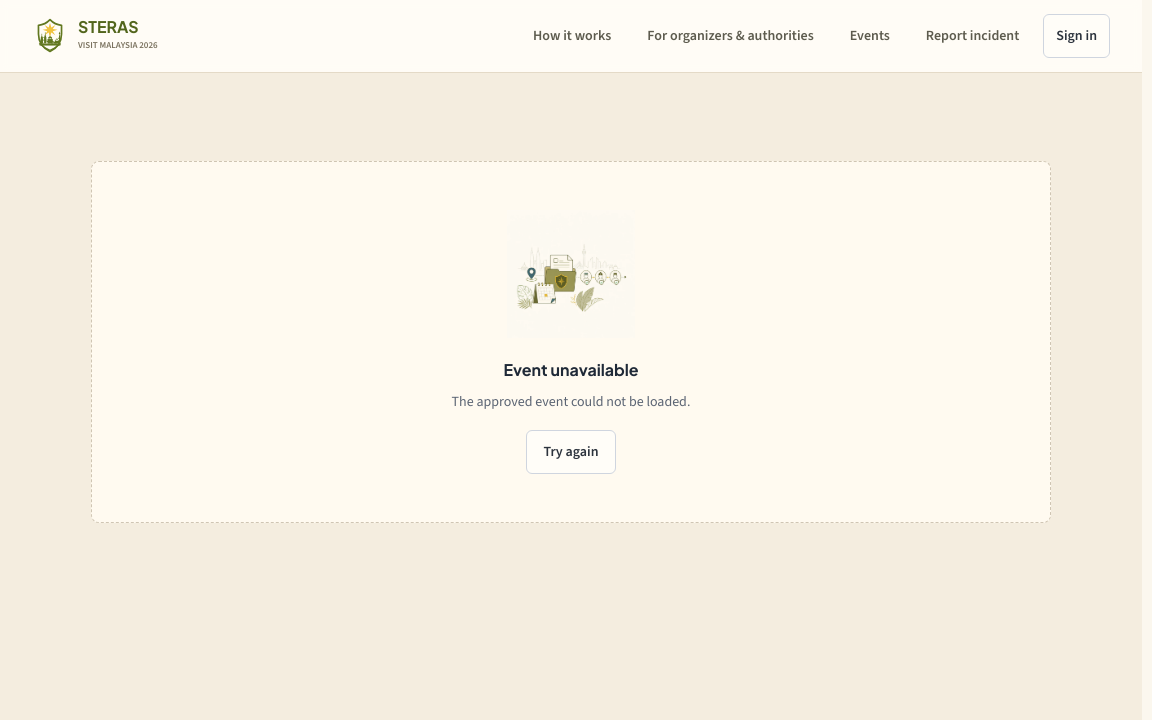
Test: PublicEventDetail › shows a retryable error when Firestore fails
The image size is (1152, 720).
Expected: the heading "Event unavailable" is shown, [503,359,639,380]
Click the button "Try again": {"x": 571, "y": 452} [526,430,616,474]
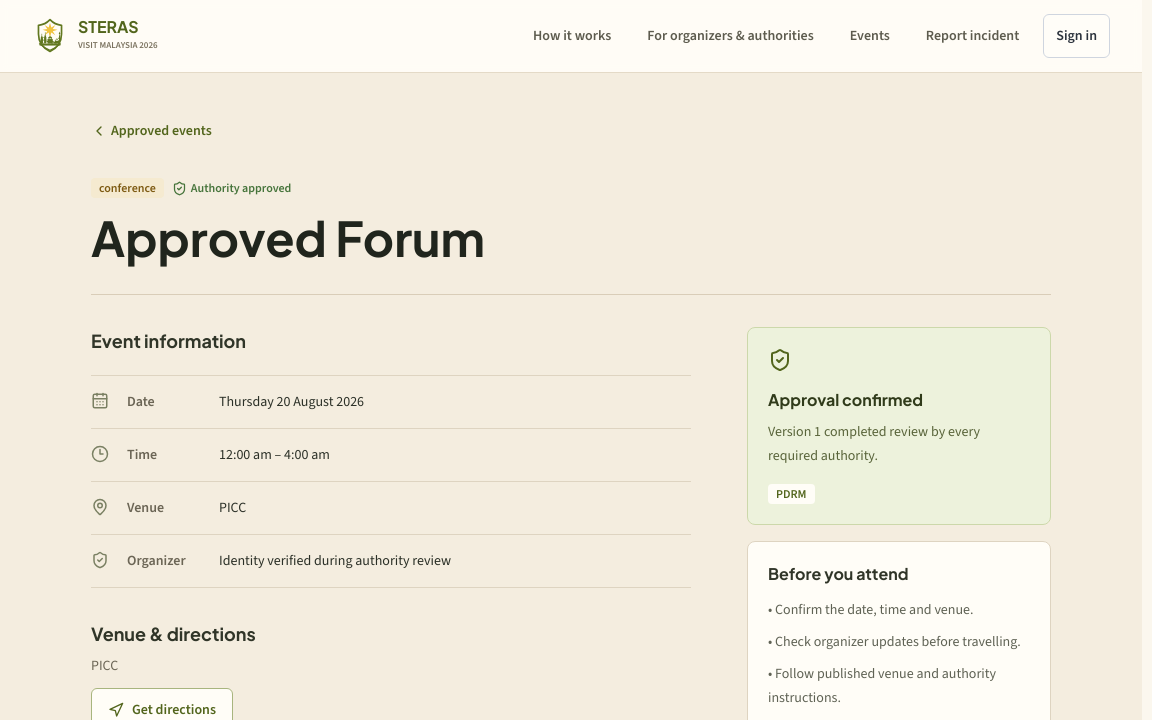
Expected: the heading "Approved Forum" is shown, [91,207,485,268]
